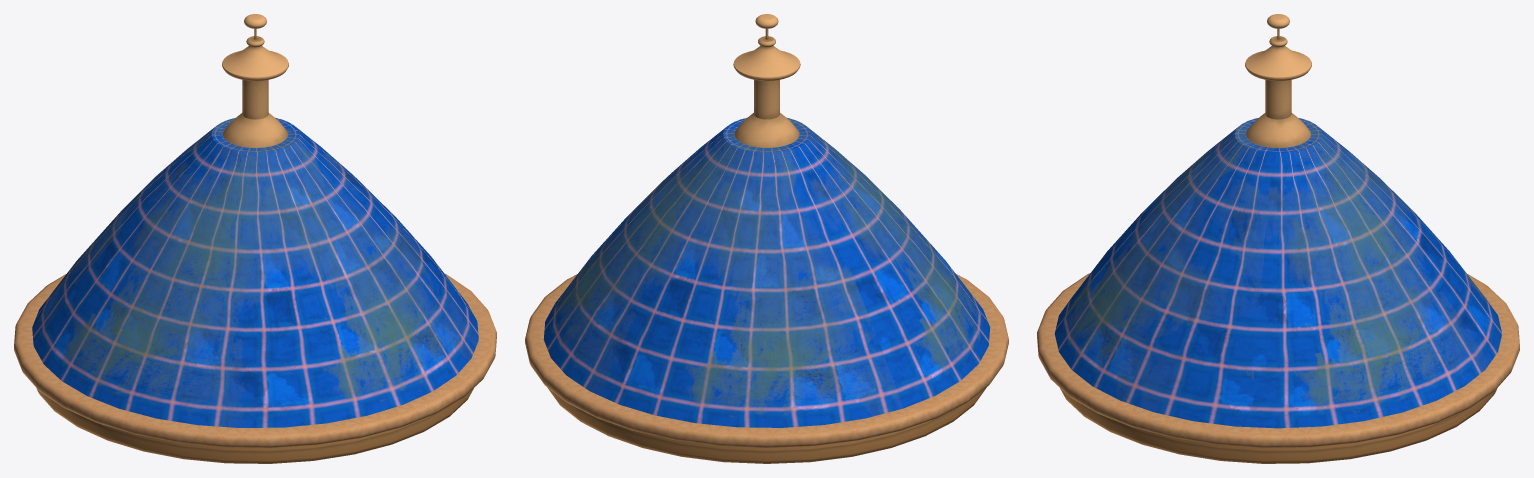
Rendered from SM_Dome_02.fbx.
3 views of the same model, side by side, from view 1: azimuth 30°, elevation 25°; view 2: azimuth 150°, elevation 25°; view 3: azimuth 270°, elevation 25° (orthographic).
Parts seen in each view (by area): view 1: SM_Dome_02_LOD0; view 2: SM_Dome_02_LOD0; view 3: SM_Dome_02_LOD0.
Boxes of the visible parts, box(x1,y1,x2,y2) form: SM_Dome_02_LOD0: box(14, 14, 496, 463); SM_Dome_02_LOD0: box(525, 14, 1008, 463); SM_Dome_02_LOD0: box(1037, 14, 1519, 463).
Size of the model in its own units: 757 by 757 by 613.
Materials: 2 (2 with a texture image).
